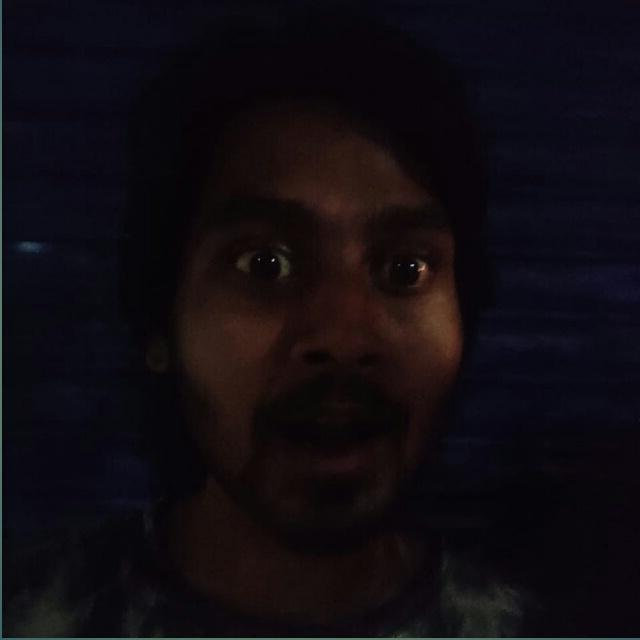surprised: (137, 100, 508, 570)
